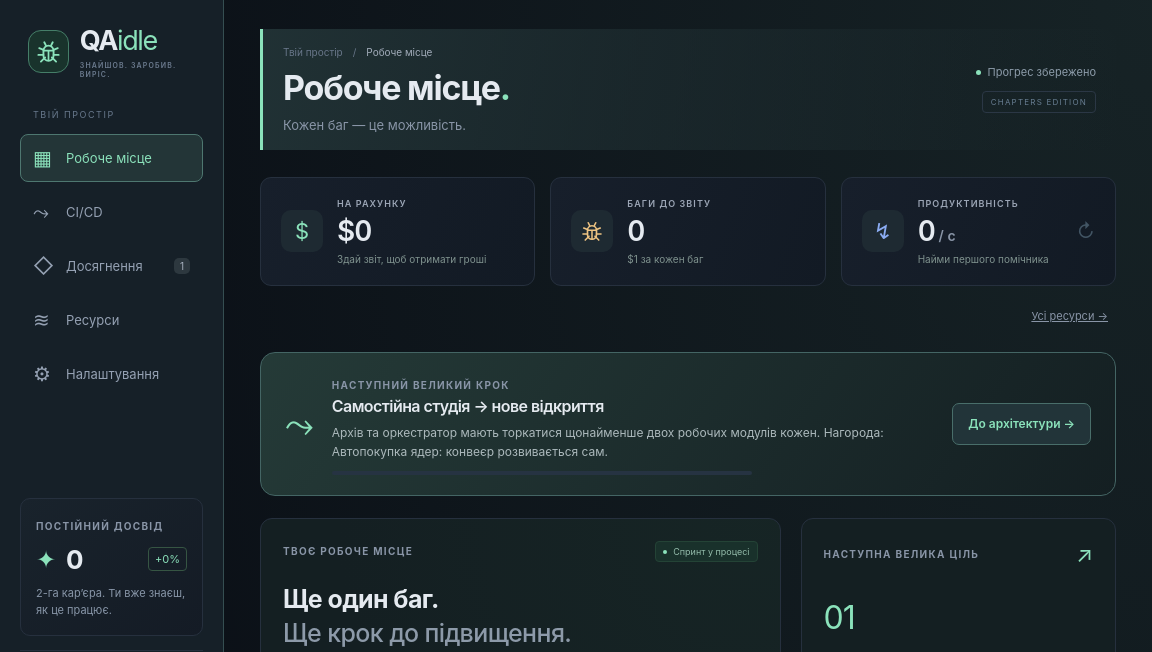
Test: hides the generator layer before the final blueprint
Click the button "⤳ CI/CD". click: (112, 212)
box: [20, 188, 203, 236]
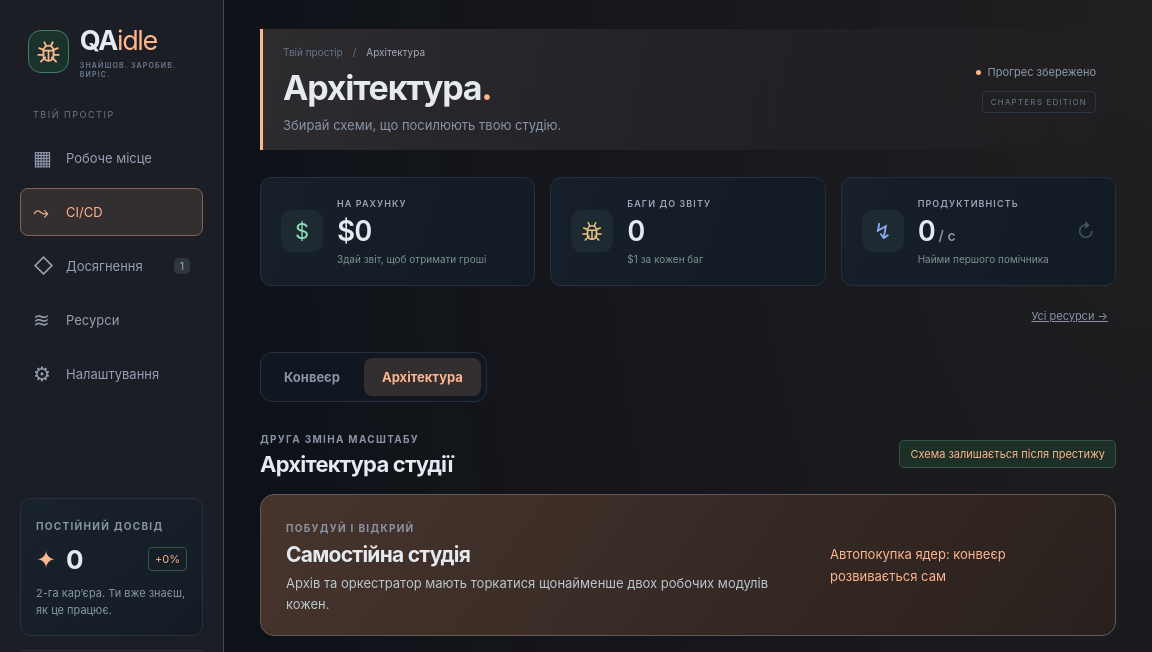
Now the heading "Архітектура студії" is shown, box [260, 451, 453, 477]
